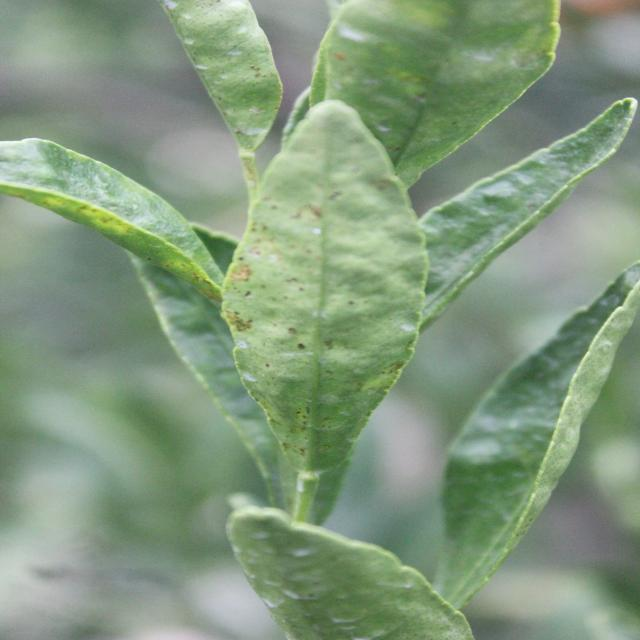canker: (216, 166, 410, 467)
